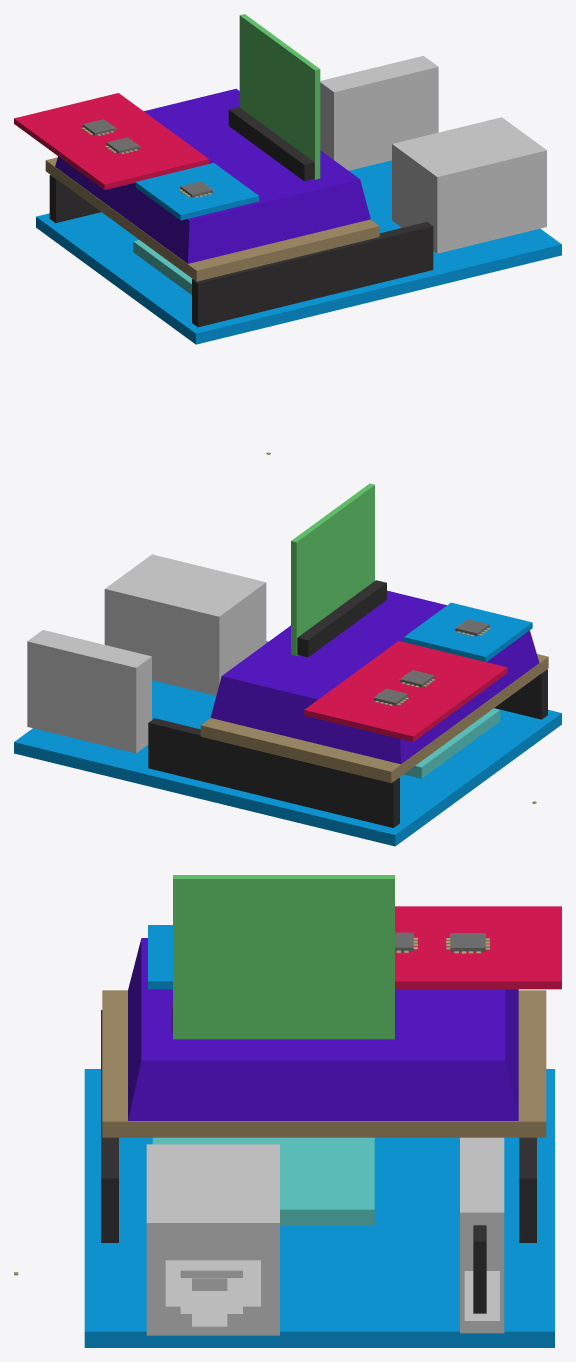
Rendered from arduino.dae.
3 renders of one model, top to bottom at view 1: azimuth 30°, elevation 25°; view 2: azimuth 150°, elevation 25°; view 3: azimuth 270°, elevation 25°, orthographic. The views are drawn at different scales.
Parts seen in each view (by area): view 1: BreadBoard, PCB, Network, Connector1, USB, Accel, Shifter, ProtoPCB, Compass, Shifter_001, Connector2, Yun; view 2: BreadBoard, PCB, Network, USB, Connector2, Accel, Shifter, ProtoPCB, Compass, Shifter_001, Yun, Connector1; view 3: PCB, BreadBoard, Shifter, Network, ProtoPCB, Accel, Yun, USB, Connector1, Connector2, Compass, USB_Mid (+1 smaller).
Boxes of the visible parts, <box> form: BreadBoard: <box>55,88,370,263</box>; PCB: <box>36,160,561,344</box>; Network: <box>392,117,546,253</box>; Connector1: <box>192,222,433,327</box>; USB: <box>320,56,438,170</box>; Accel: <box>14,93,208,189</box>; Shifter: <box>239,14,320,179</box>; ProtoPCB: <box>45,157,379,281</box>; Compass: <box>135,163,259,220</box>; Shifter_001: <box>228,107,314,181</box>; Connector2: <box>49,175,100,222</box>; Yun: <box>133,240,192,294</box>; BreadBoard: <box>210,590,539,764</box>; PCB: <box>14,641,561,846</box>; Network: <box>104,554,266,695</box>; USB: <box>27,630,151,753</box>; Connector2: <box>148,718,399,827</box>; Accel: <box>304,641,507,741</box>; Shifter: <box>291,483,374,655</box>; ProtoPCB: <box>200,654,548,783</box>; Compass: <box>404,602,532,661</box>; Shifter_001: <box>297,580,386,657</box>; Yun: <box>404,708,500,778</box>; Connector1: <box>494,669,547,719</box>; PCB: <box>84,1069,554,1347</box>; BreadBoard: <box>128,938,518,1120</box>; Shifter: <box>173,875,394,1039</box>; Network: <box>146,1144,279,1335</box>; ProtoPCB: <box>102,990,546,1137</box>; Accel: <box>395,906,561,989</box>; Yun: <box>152,1137,374,1225</box>; USB: <box>460,1137,504,1333</box>; Connector1: <box>101,1010,118,1242</box>; Connector2: <box>519,1137,536,1242</box>; Compass: <box>148,925,172,989</box>; USB_Mid: <box>473,1225,486,1313</box>.
Bounding box in the file's own units: 74.96 × 61.74 × 58.52.
